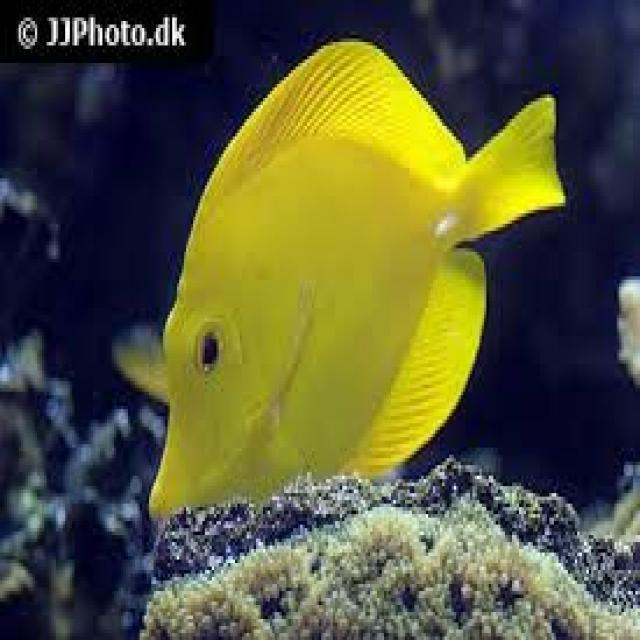TangFish: (142, 38, 568, 519)
